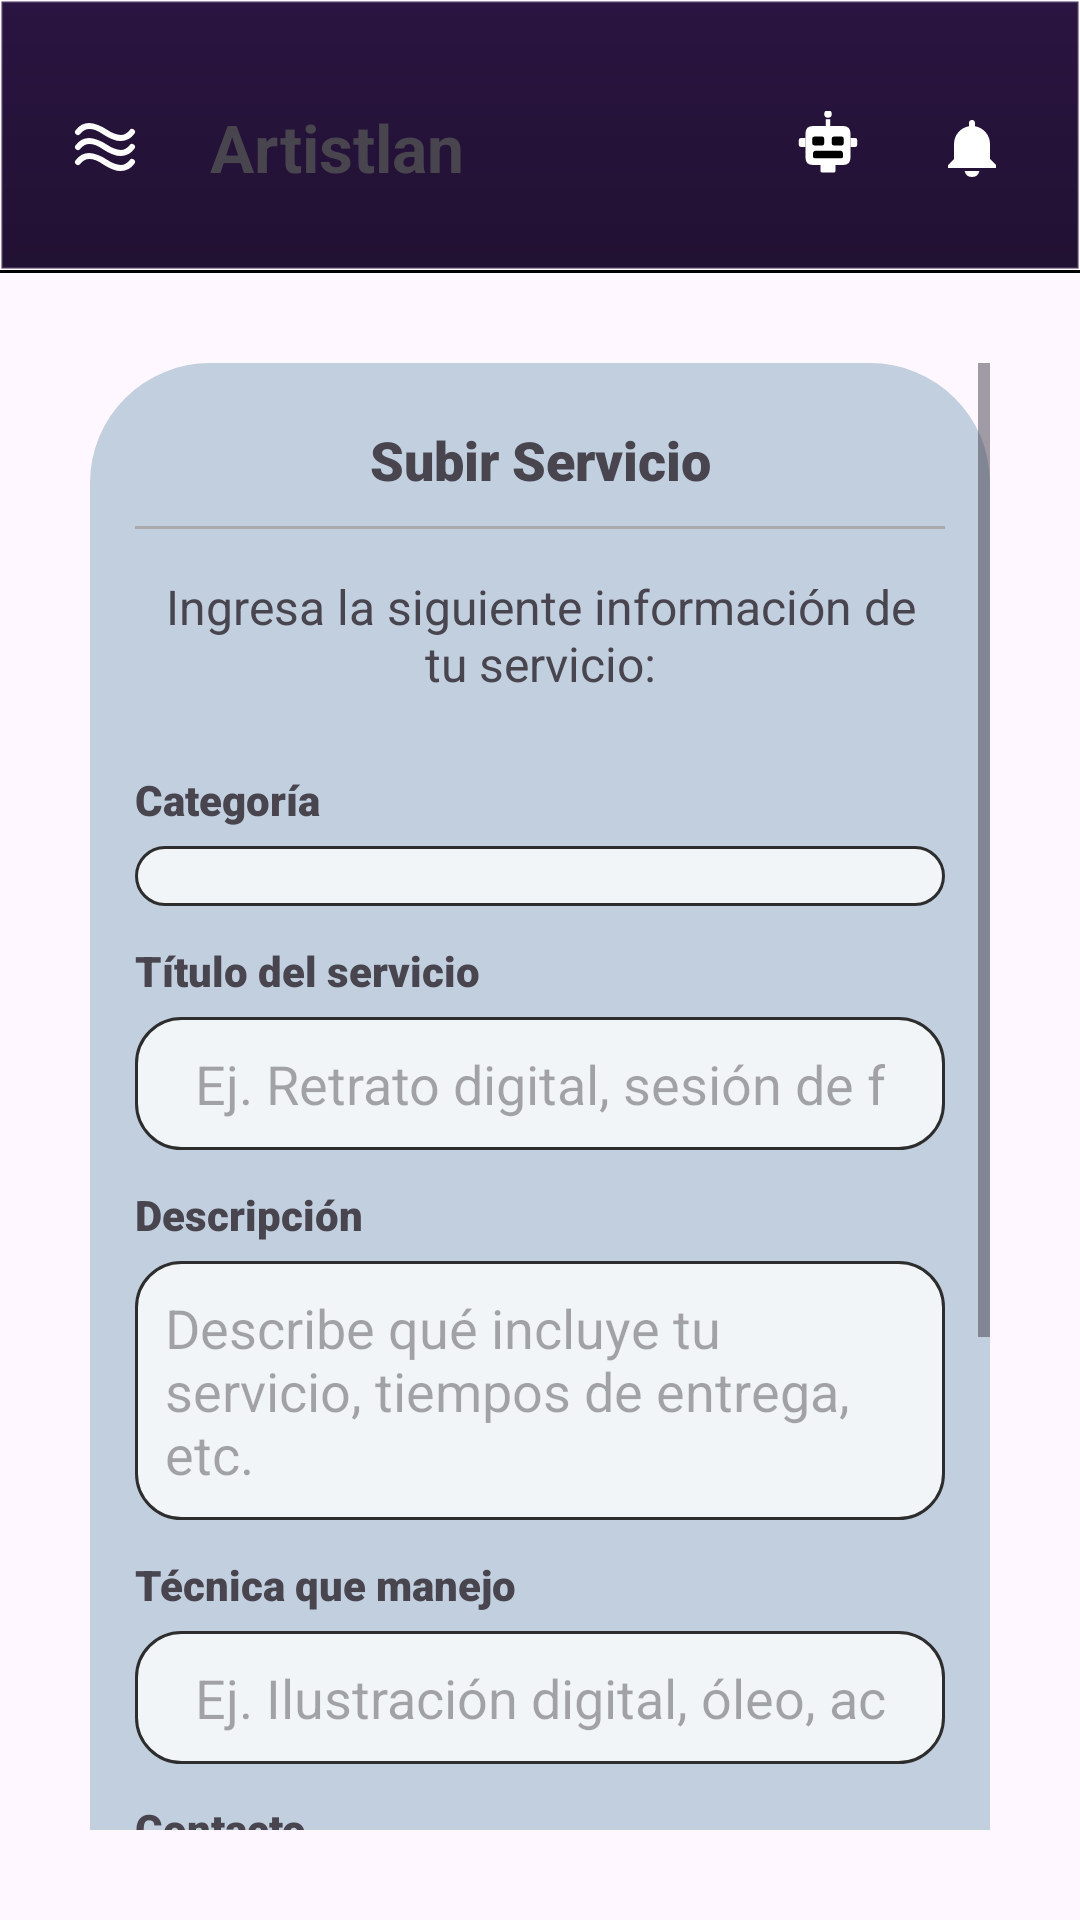

Screen size 1080 × 1920. Icon name, then its center in pixels as (x,y):
Chatbot de asistencia: (828,142)
